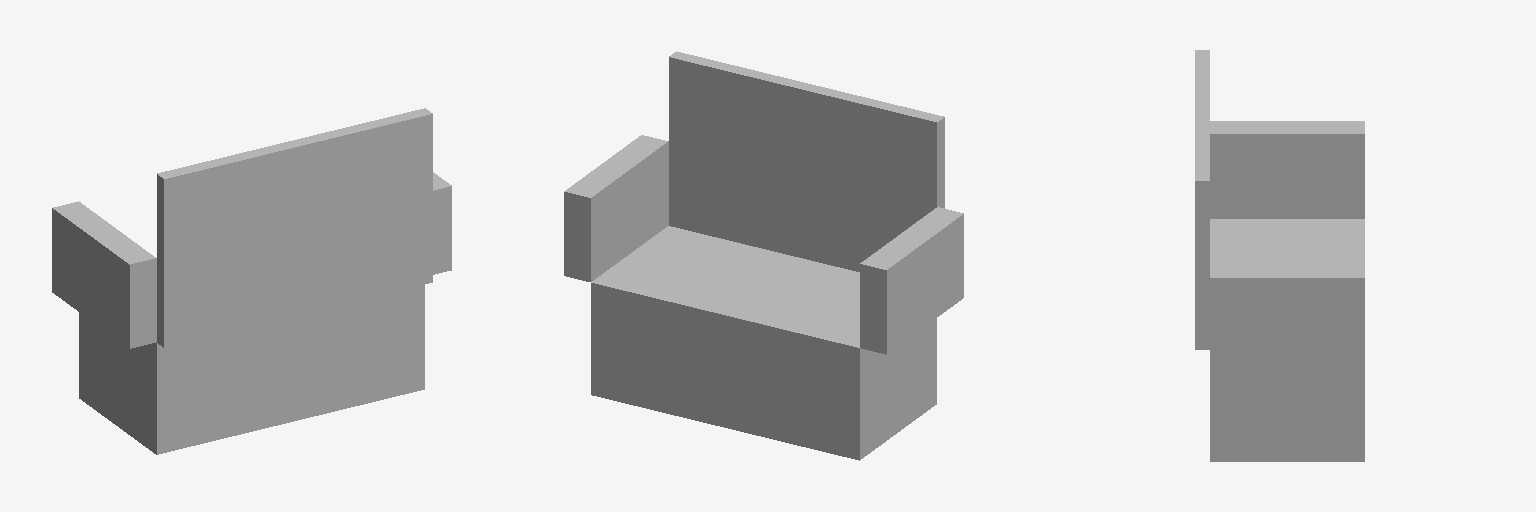
File: Sofa.obj
3 views of the same model, side by side, from view 1: azimuth 30°, elevation 25°; view 2: azimuth 150°, elevation 25°; view 3: azimuth 270°, elevation 25° (orthographic).
Bounding box in the file's own units: 2.4 × 2 × 1.1.